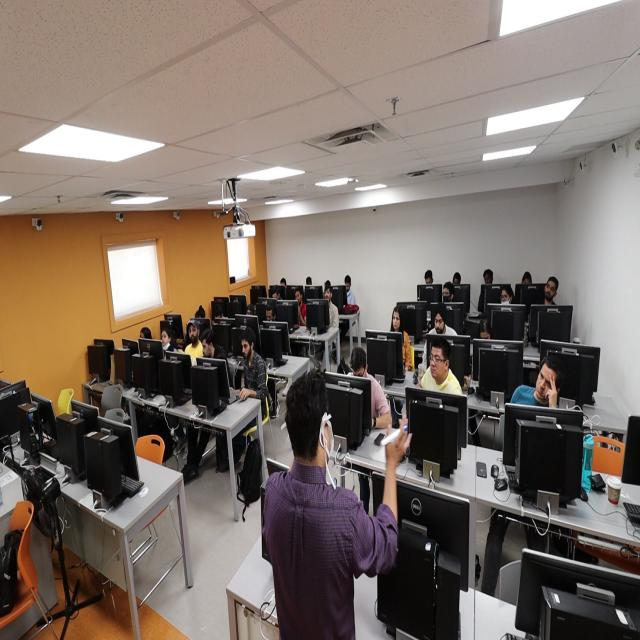Attentive: (536, 365, 556, 400), (429, 346, 445, 379), (545, 280, 557, 300), (188, 324, 198, 342), (392, 312, 400, 330), (501, 290, 511, 304), (161, 331, 169, 347), (484, 273, 493, 285), (324, 287, 331, 302)
Distracted: (350, 360, 367, 382), (434, 312, 445, 332), (202, 338, 212, 359), (240, 338, 250, 358), (478, 327, 491, 342), (442, 286, 452, 302), (295, 290, 302, 306), (266, 308, 273, 322), (425, 276, 432, 286), (344, 281, 350, 292), (246, 309, 254, 317)
